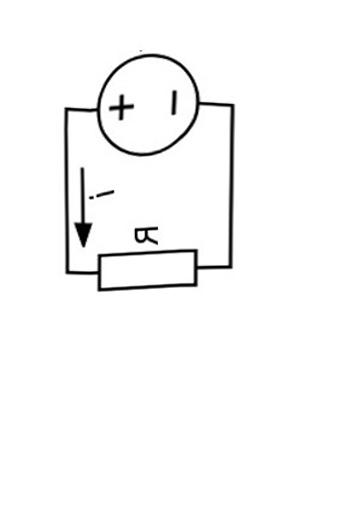Battery: (72, 33, 215, 172)
